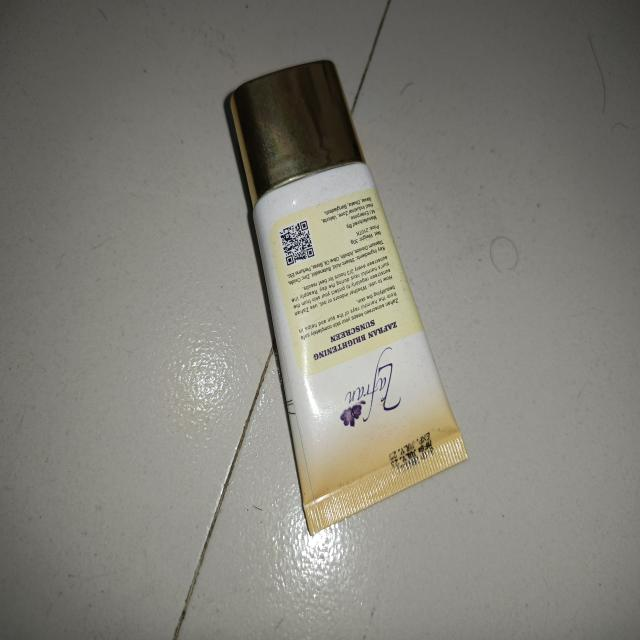Squeeze Tube: (224, 54, 476, 520)
